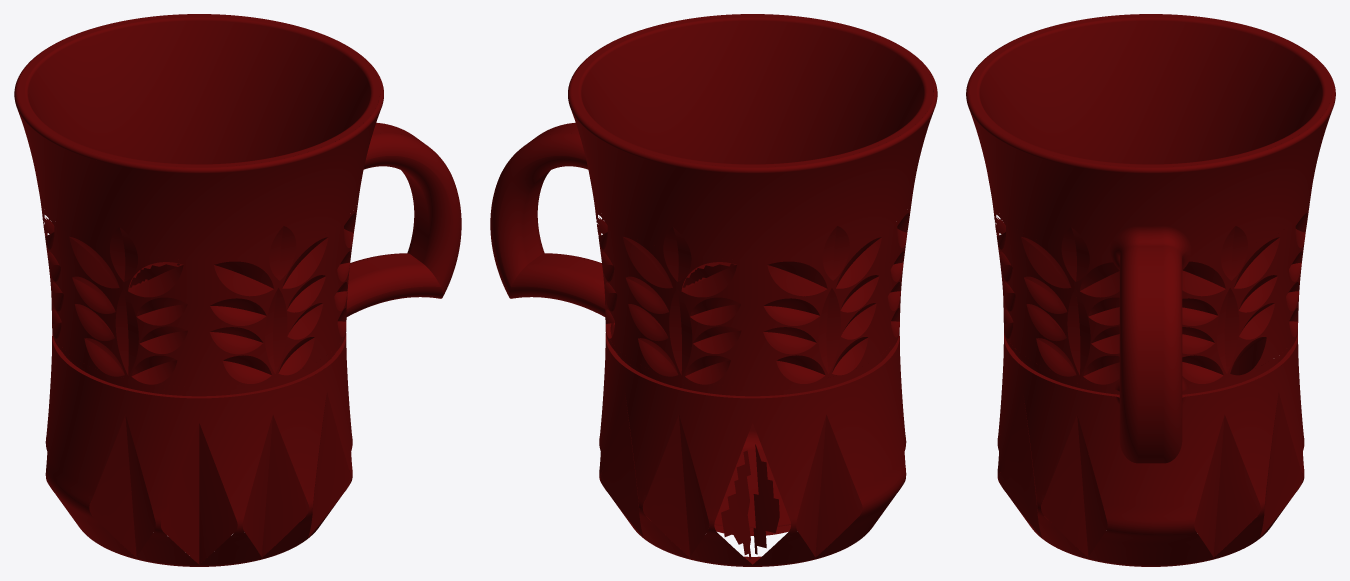
The model's file is sonbolla_tea.glb.
3 renders of one model, left to right at view 1: azimuth 30°, elevation 25°; view 2: azimuth 150°, elevation 25°; view 3: azimuth 270°, elevation 25°, orthographic.
Parts seen in each view (by area): view 1: Imported1 (×51); view 2: Imported1 (×52); view 3: Imported1 (×53).
Part boxes in pixels (<box>): Imported1 (×51): <box>14,14,461,564</box>; Imported1 (×52): <box>490,14,937,564</box>; Imported1 (×53): <box>966,14,1335,564</box>.
Size of the model in its own units: 0.1005 by 0.099 by 0.0778.
